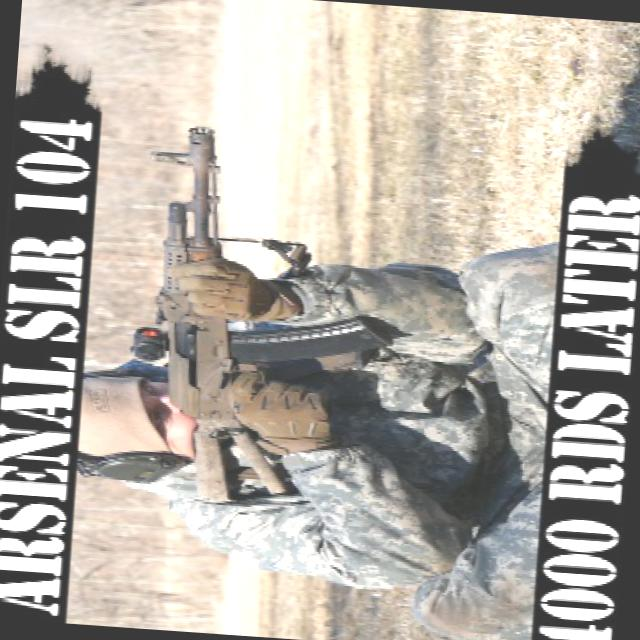long weapon: (115, 117, 408, 525)
